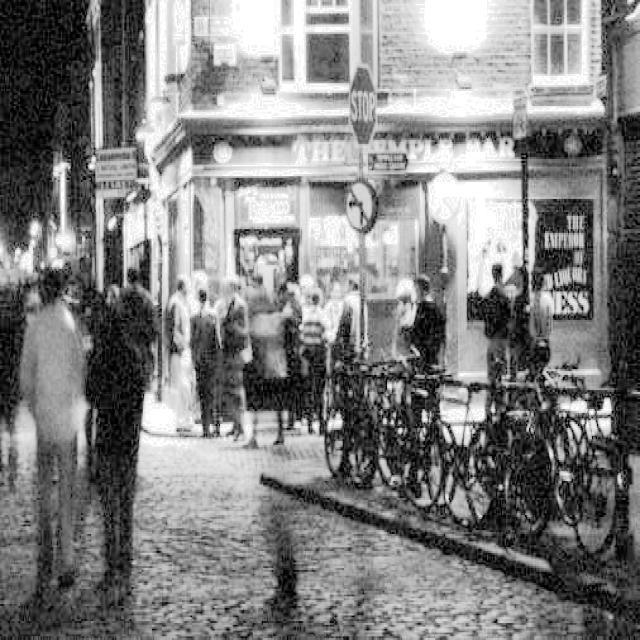Bicycle: (490, 379, 636, 591), (296, 352, 445, 511), (411, 362, 536, 526)
Person: (33, 249, 85, 559), (94, 277, 137, 565), (254, 258, 304, 436), (478, 249, 525, 376), (334, 247, 377, 376), (161, 271, 191, 435), (217, 273, 249, 423), (300, 262, 336, 392), (530, 252, 566, 377), (128, 241, 161, 366), (199, 271, 221, 441), (408, 245, 438, 368), (383, 243, 409, 359)
